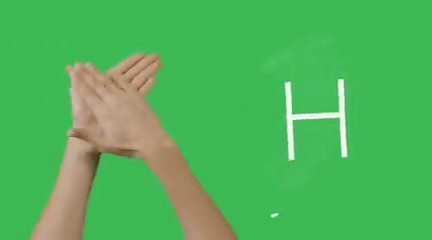H: (53, 42, 188, 168)
